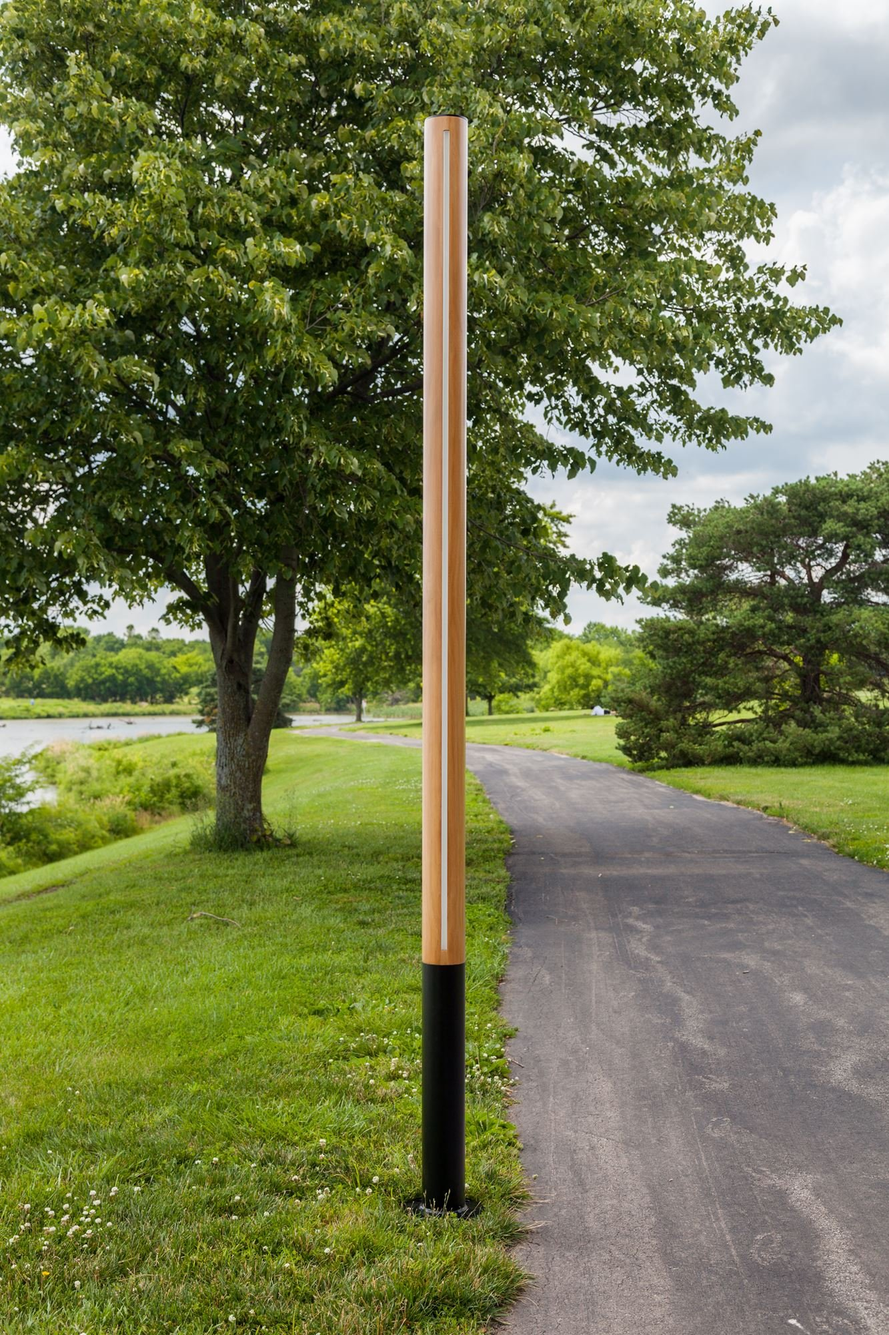light_pole: (388, 104, 487, 1210)
